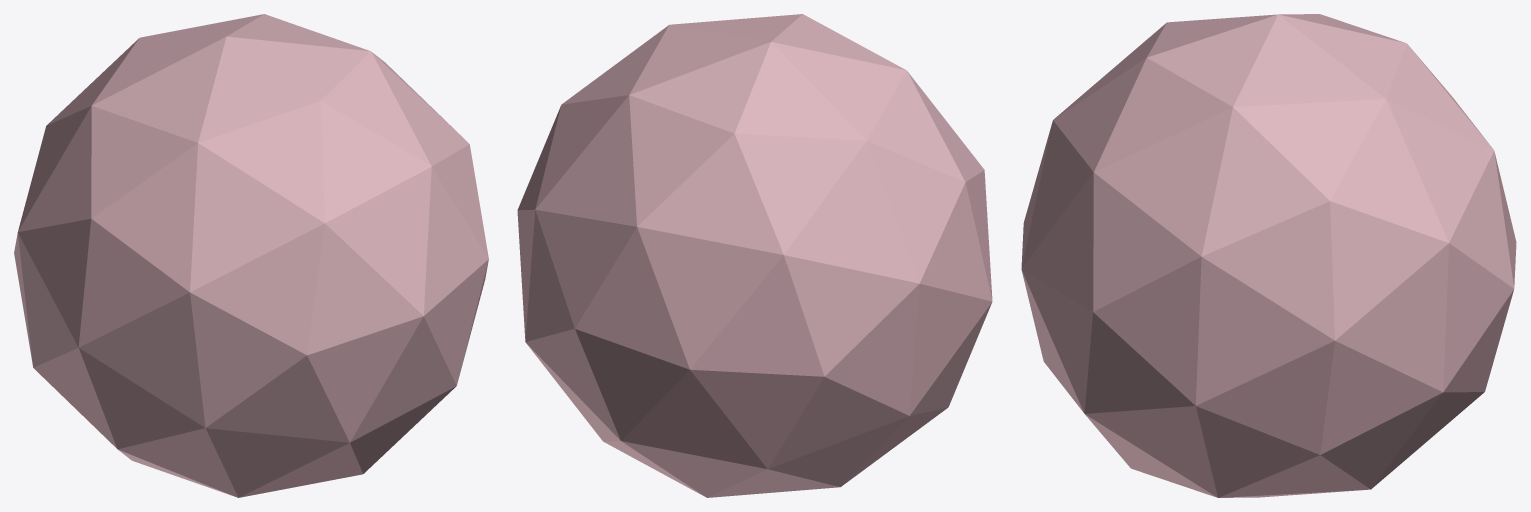
File: pn_moon_02.gltf
3 views of the same model, side by side, from view 1: azimuth 30°, elevation 25°; view 2: azimuth 150°, elevation 25°; view 3: azimuth 270°, elevation 25° (orthographic). The views are drawn at different scales.
Parts seen in each view (by area): view 1: moon_02; view 2: moon_02; view 3: moon_02.
Boxes of the visible parts, x1,y1,x2,y2 form: moon_02: (14,14,488,497); moon_02: (517,14,992,497); moon_02: (1021,14,1516,497).
Size of the model in its own units: 0.2039 by 0.2107 by 0.2046.
